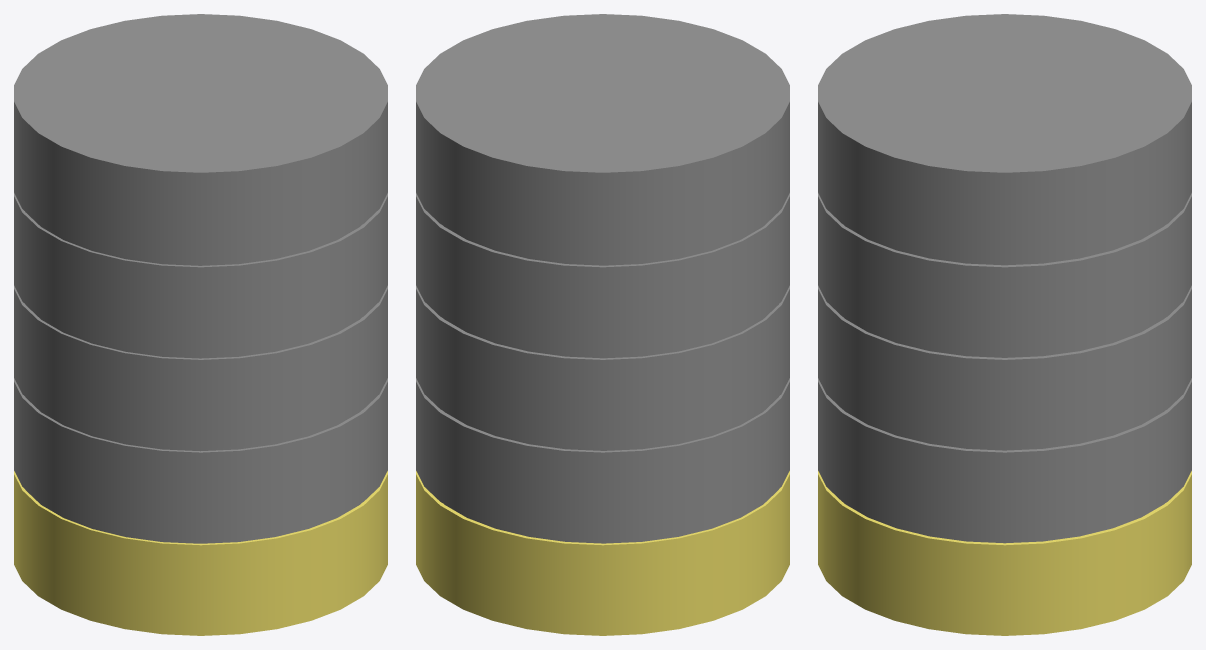
The model's file is ccjq4.obj.
3 renders of one model, left to right at view 1: azimuth 30°, elevation 25°; view 2: azimuth 150°, elevation 25°; view 3: azimuth 270°, elevation 25°, orthographic.
Parts seen in each view (by area): view 1: Cylinder025; view 2: Cylinder025; view 3: Cylinder025.
Boxes of the visible parts, box(x1,y1,x2,y2) form: Cylinder025: box(14, 14, 387, 635); Cylinder025: box(416, 14, 789, 635); Cylinder025: box(818, 14, 1191, 635).
Size of the model in its own units: 368 by 500 by 366.
